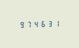four: (32, 20, 38, 28)
nine: (17, 20, 23, 28)
one: (53, 19, 59, 27)
seven: (24, 20, 30, 28)
six: (39, 20, 45, 27)
three: (46, 19, 52, 27)
